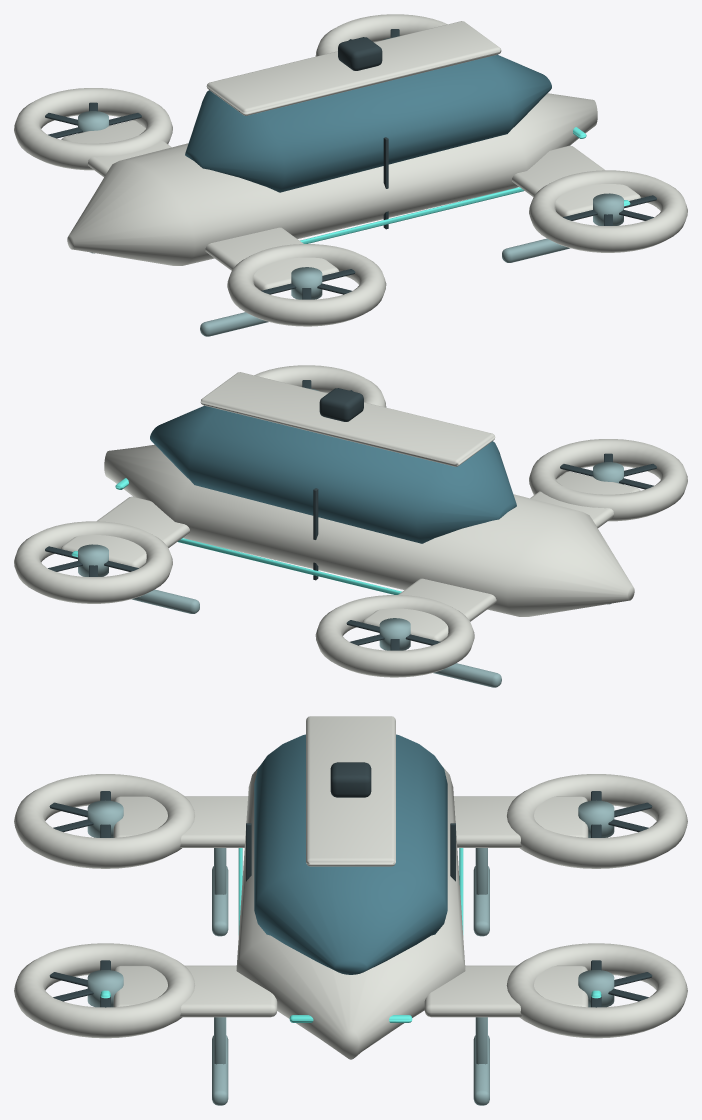
Rendered from AirTaxi.fbx.
3 views of the same model, one above another, from view 1: azimuth 30°, elevation 25°; view 2: azimuth 150°, elevation 25°; view 3: azimuth 270°, elevation 25° (orthographic). The views are drawn at different scales.
Parts seen in each view (by area): view 1: BodyPaint coachwork, Glazing coachwork, BrushedAlloy coachwork, TrimRubber coachwork, Electric fan rotor, Electric fan rotor.002, Headlamp coachwork, Electric fan rotor.001; view 2: BodyPaint coachwork, Glazing coachwork, BrushedAlloy coachwork, TrimRubber coachwork, Electric fan rotor.001, Electric fan rotor.003, Headlamp coachwork, Electric fan rotor; view 3: BodyPaint coachwork, Glazing coachwork, BrushedAlloy coachwork, TrimRubber coachwork, Electric fan rotor, Electric fan rotor.001, Electric fan rotor.002, Electric fan rotor.003, Headlamp coachwork.
Part boxes in pixels (x1,y1,x2,y2): BodyPaint coachwork: (14, 14, 687, 326); Glazing coachwork: (185, 54, 551, 192); BrushedAlloy coachwork: (90, 238, 569, 336); TrimRubber coachwork: (338, 37, 388, 229); Electric fan rotor: (261, 267, 355, 299); Electric fan rotor.002: (563, 193, 656, 225); Headlamp coachwork: (300, 127, 630, 243); Electric fan rotor.001: (45, 102, 141, 138); BodyPaint coachwork: (14, 365, 687, 677); Glazing coachwork: (150, 405, 516, 543); BrushedAlloy coachwork: (132, 589, 610, 687); TrimRubber coachwork: (313, 388, 363, 580); Electric fan rotor.001: (346, 618, 440, 650); Electric fan rotor.003: (45, 544, 138, 576); Headlamp coachwork: (71, 478, 401, 594); Electric fan rotor: (560, 453, 656, 489); BodyPaint coachwork: (14, 716, 687, 1059); Glazing coachwork: (254, 734, 447, 974); BrushedAlloy coachwork: (212, 848, 489, 1105); TrimRubber coachwork: (246, 762, 455, 881); Electric fan rotor: (49, 791, 123, 837); Electric fan rotor.001: (578, 791, 652, 837); Electric fan rotor.002: (49, 960, 123, 1007); Electric fan rotor.003: (578, 960, 652, 1007); Headlamp coachwork: (100, 848, 601, 1022).
Bounding box in the file's own units: 850 × 308 × 824.
